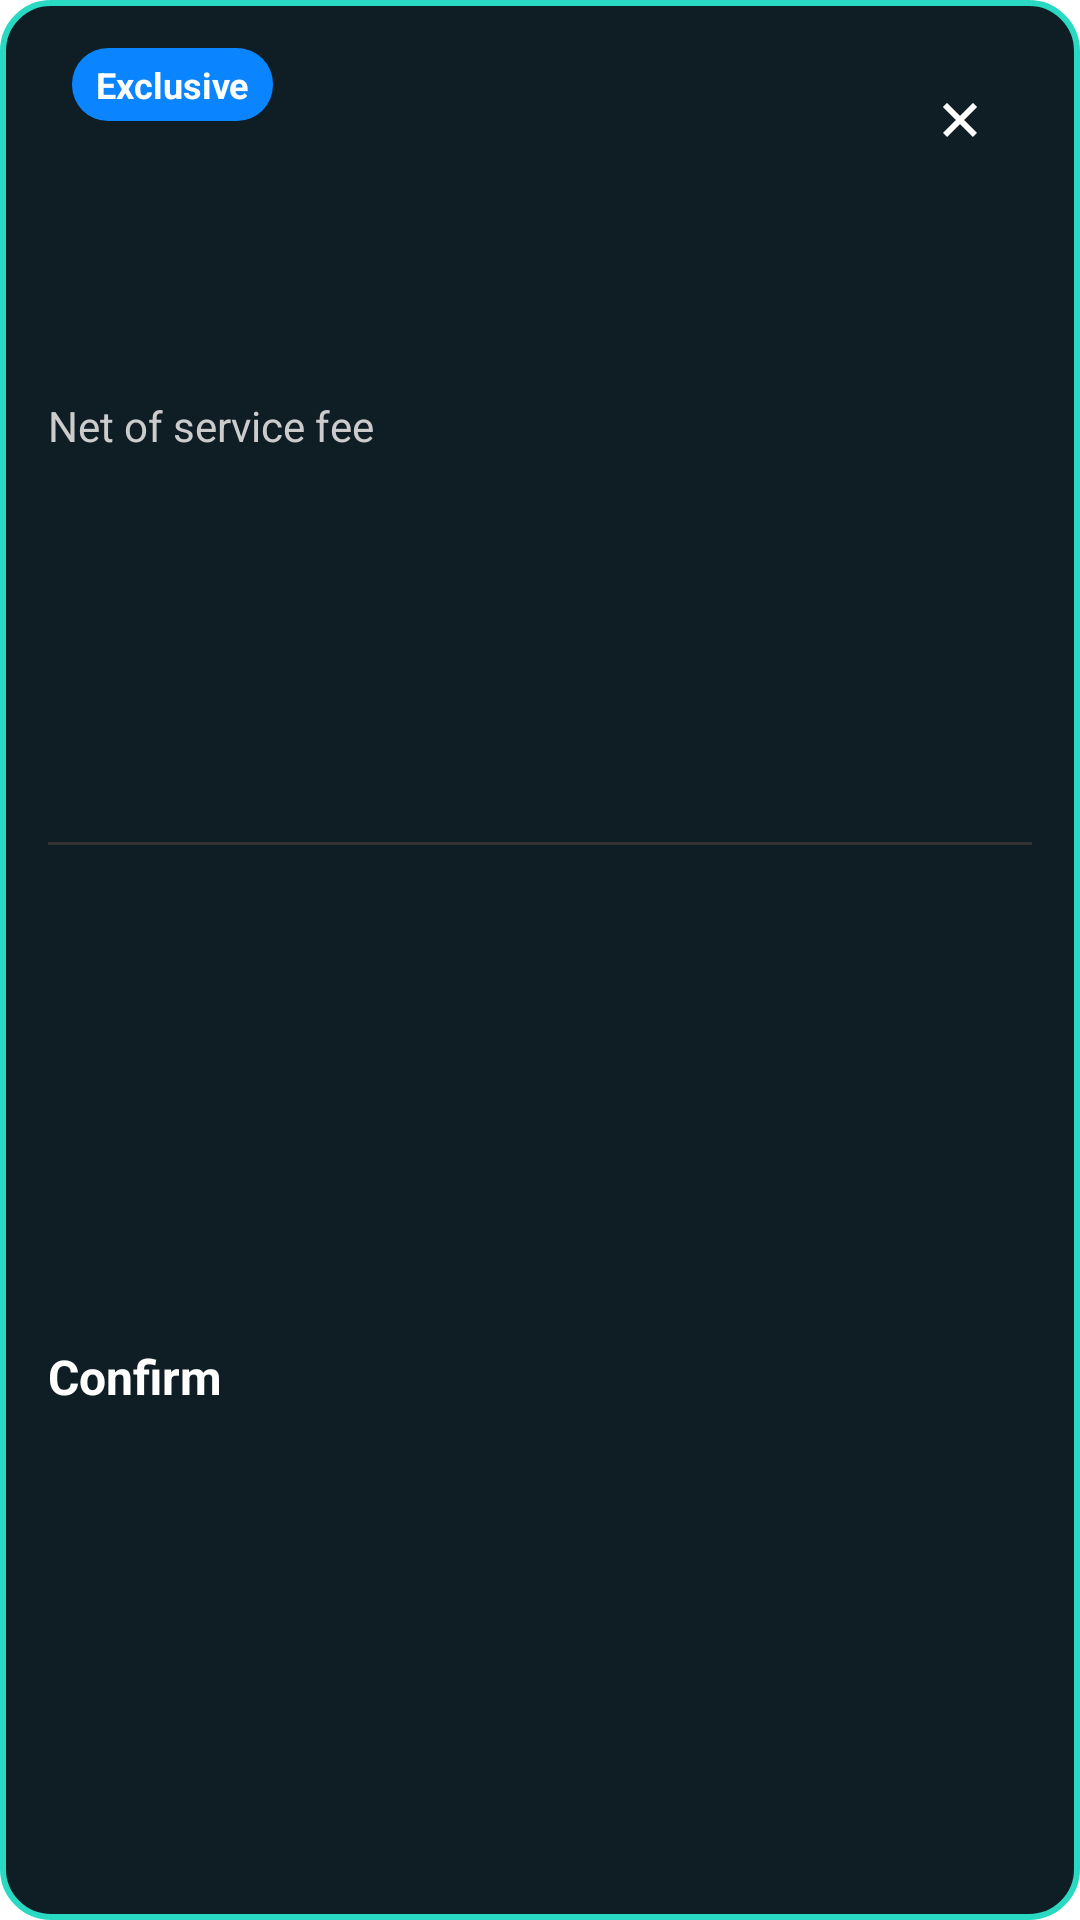

Named icons in this screenshot (1080x1920) and their bounding boxes, (x1, y1, x2, y2):
Close: (943, 103, 977, 137)
